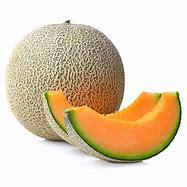Melon Ripe: (5, 21, 124, 140), (64, 91, 183, 163)
